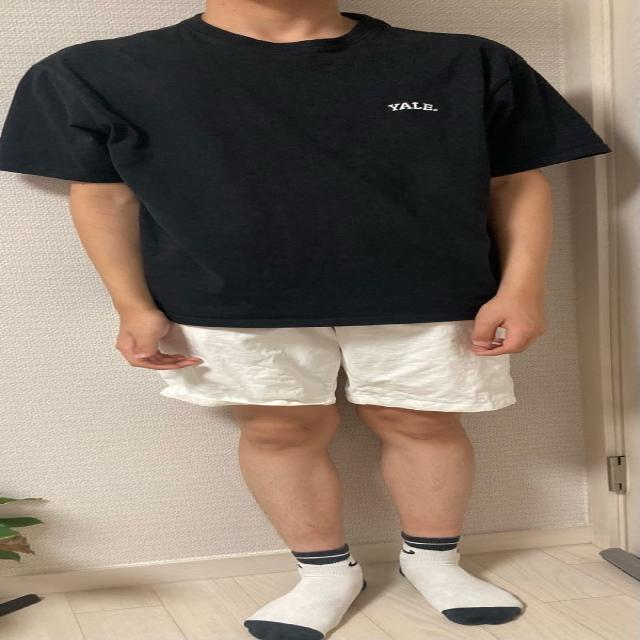shortpants: (143, 320, 527, 416)
shortsleeve: (0, 8, 608, 327)
